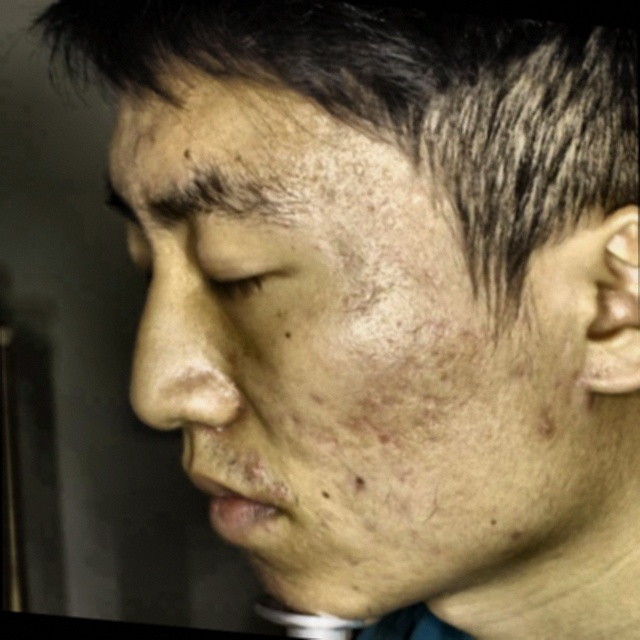comedone: (230, 450, 274, 487), (366, 419, 404, 458), (535, 410, 565, 445)
